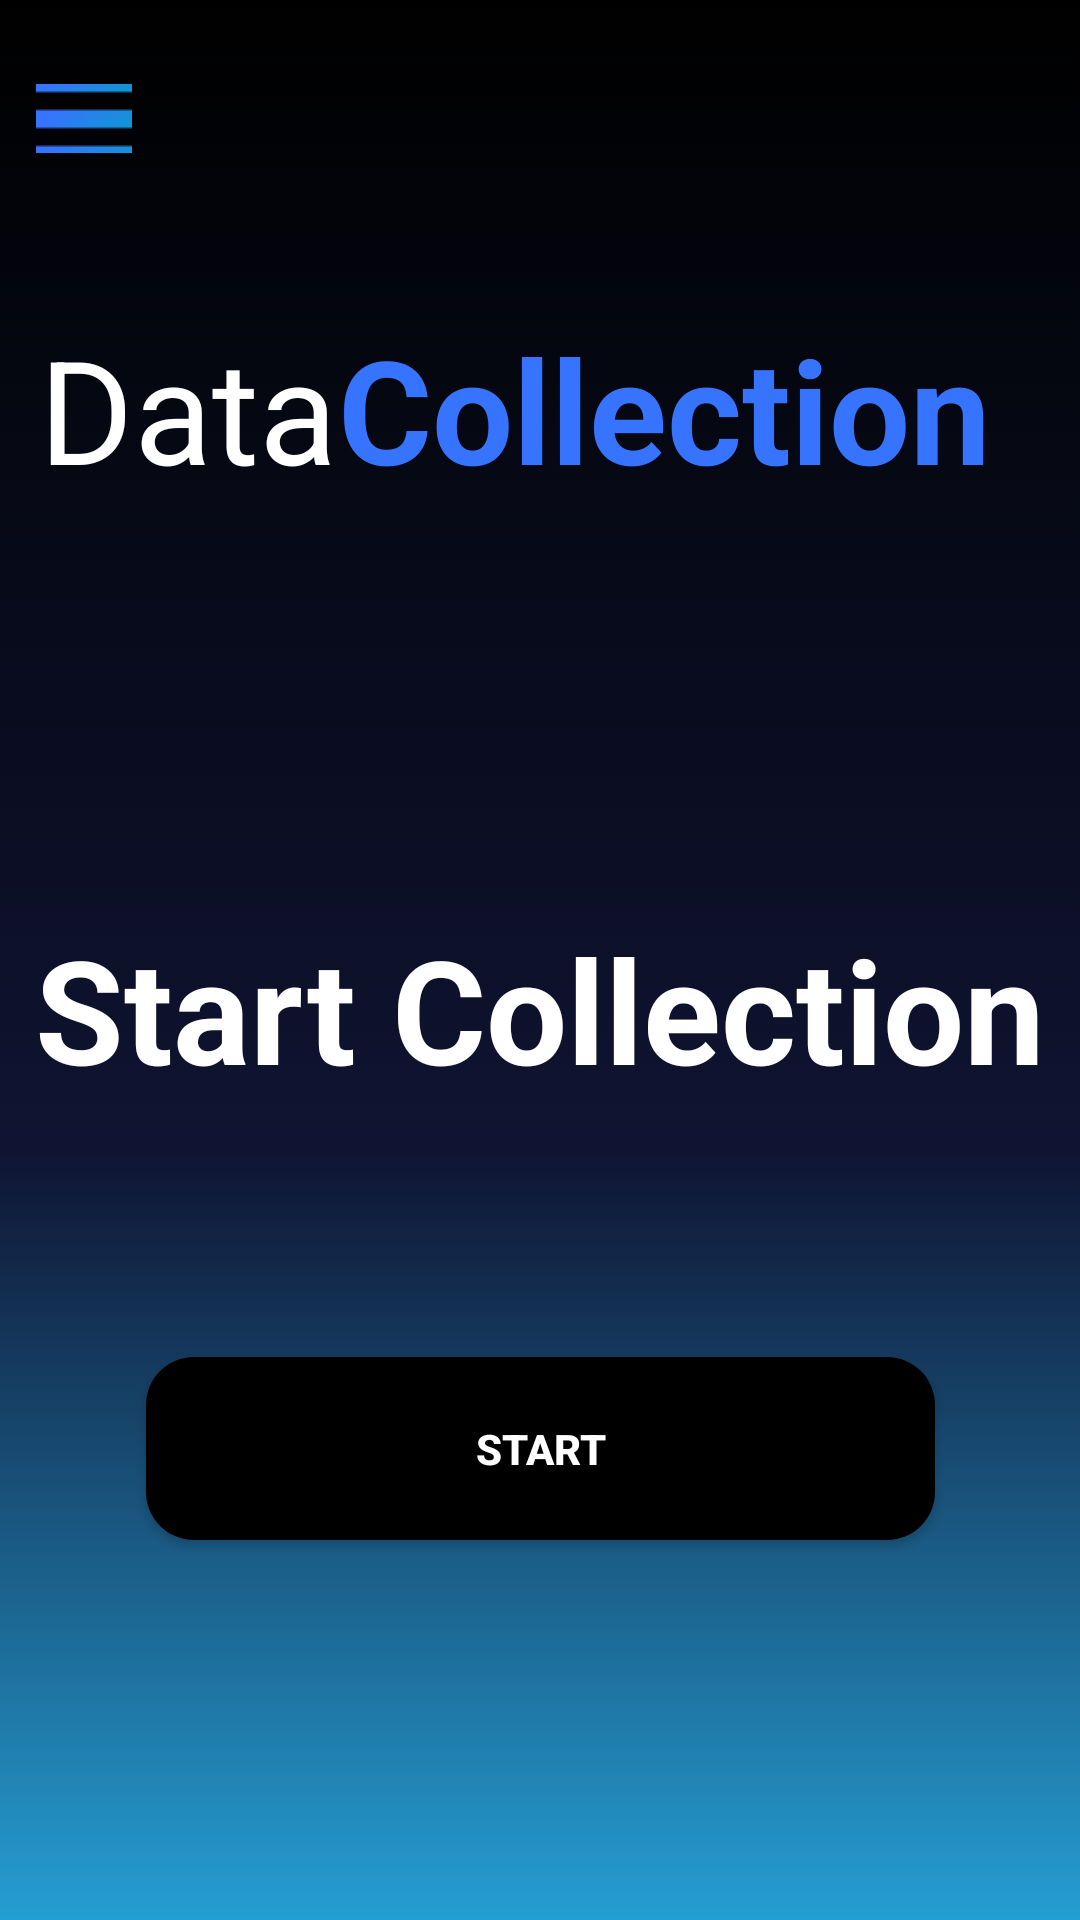

Screen size 1080x1920. Icon name, then its box in pixels as (left=x1, top=y1, right=x2, bottom=y2):
menu: (left=36, top=84, right=132, bottom=153)
